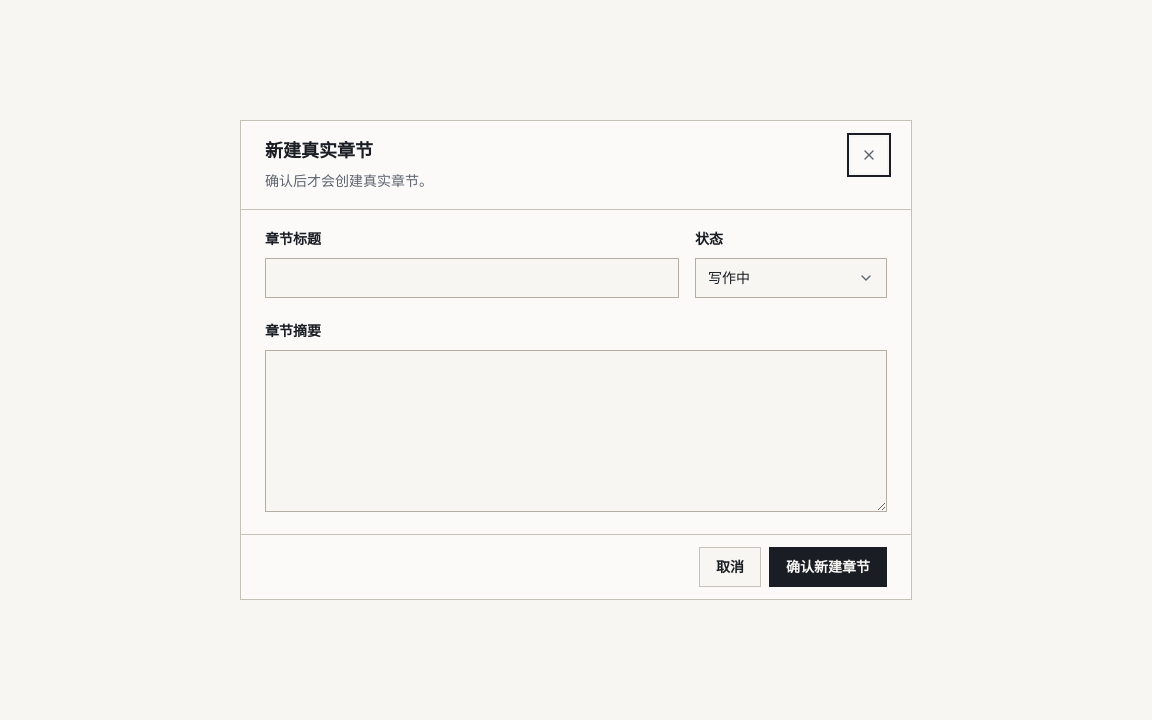
it: ChapterCreateDialog › 章节状态选项完整使用统一中文键
This screenshot has width=1152, height=720.
Click the button with aria-label "状态" at x=791, y=278, box [695,258,887,298]
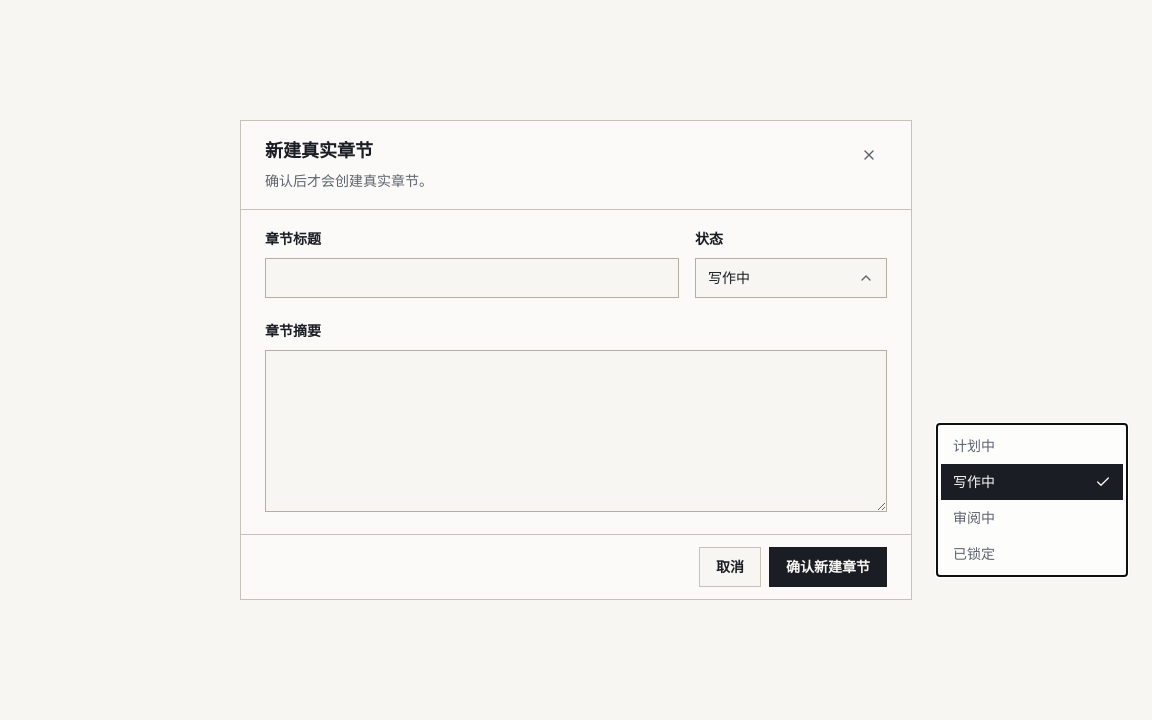
expect the text "计划中" is shown: met, box [953,436,995,456]
expect the 2nd text "写作中" is shown: met, box [953,472,995,492]
expect the text "审阅中" is shown: met, box [953,508,995,528]
